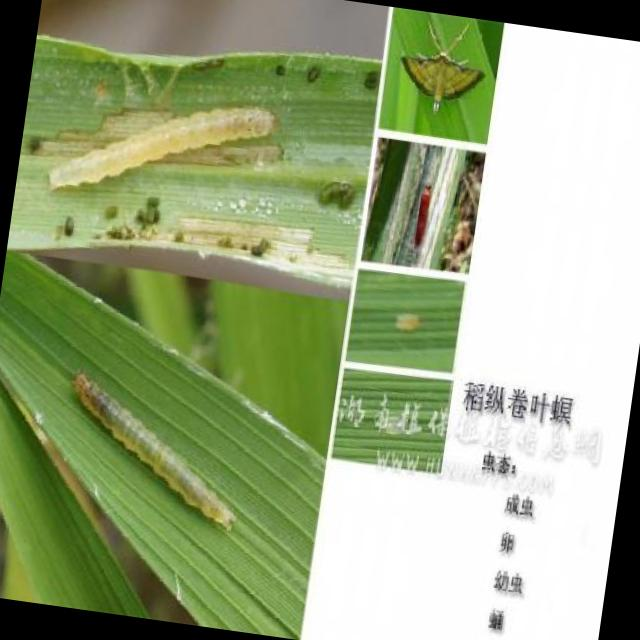leaf-folder: (36, 342, 262, 553), (34, 72, 285, 222), (409, 164, 444, 254), (383, 298, 432, 341)
